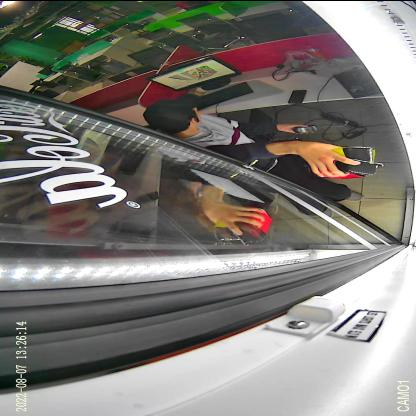red: (308, 158, 386, 178)
yellow: (331, 145, 377, 162)
